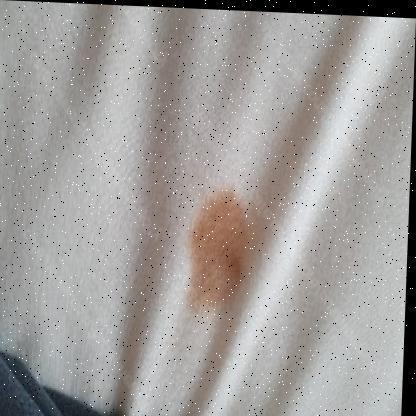kimchi: (179, 194, 262, 315)
